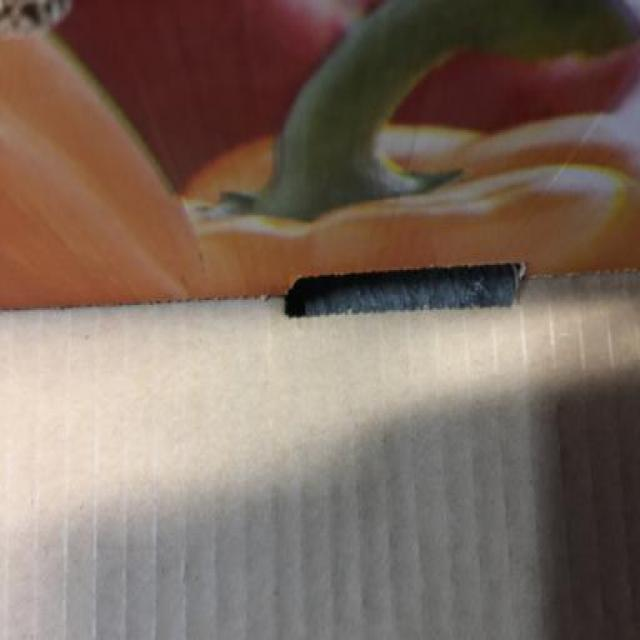cardboard: (21, 284, 640, 640)
